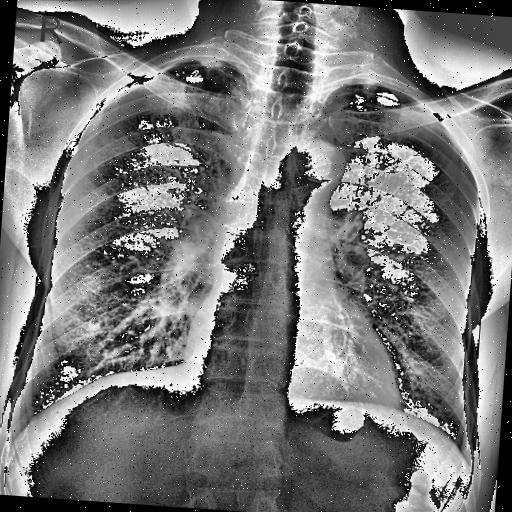0- Aortic enlargement: (288, 138, 346, 185)
11- Pleural thickening: (96, 37, 222, 107), (117, 48, 224, 98), (336, 68, 442, 116), (166, 52, 238, 71)
13- Pulmonary fibrosis: (346, 82, 392, 102)
5- ILD: (384, 253, 474, 428), (64, 203, 152, 364), (24, 316, 100, 430)
9- Other lesion: (384, 253, 474, 428), (64, 203, 152, 364), (24, 316, 100, 430)
